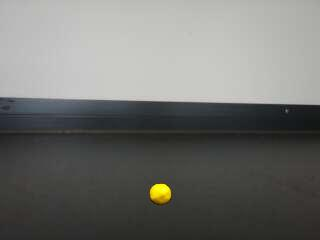Lemon: (149, 183, 172, 205)
